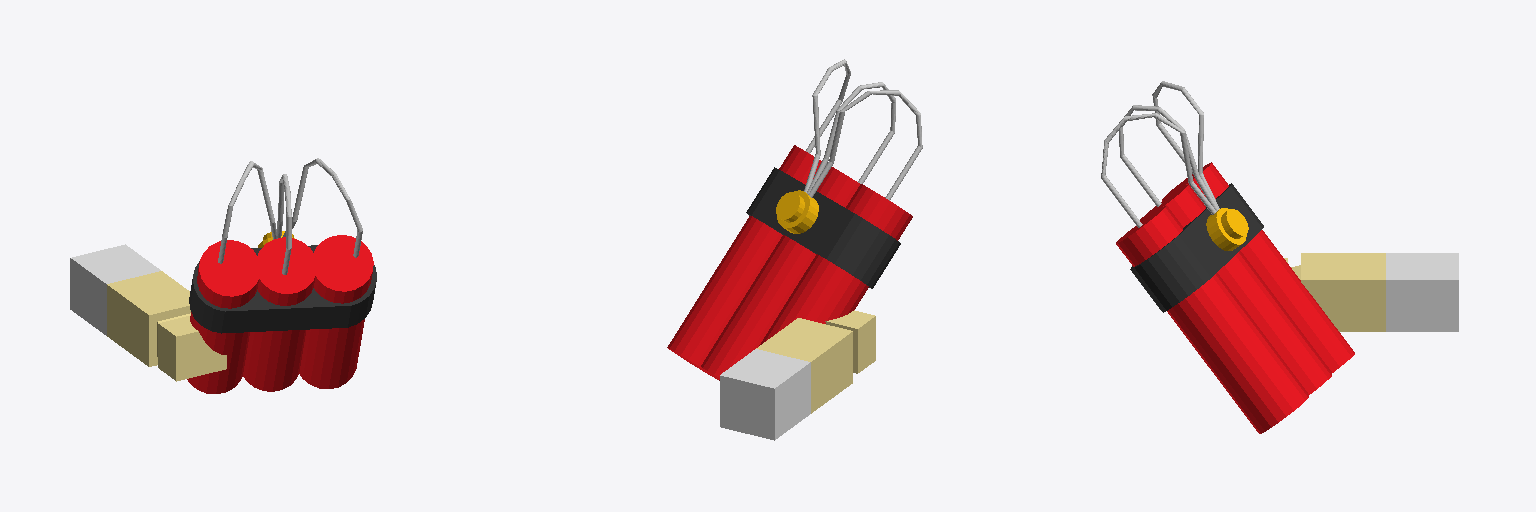
The picture shows the model from 3 angles: view 1: azimuth 30°, elevation 25°; view 2: azimuth 150°, elevation 25°; view 3: azimuth 270°, elevation 25°; orthographic projection.
Visible parts, largest first — view 1: user defined10, cube5; view 2: user defined10, cube5; view 3: user defined10, cube5.
Boxes of the visible parts, x1,y1,x2,y2 form: user defined10: [187, 158, 376, 393]; cube5: [70, 244, 226, 381]; user defined10: [667, 59, 922, 380]; cube5: [720, 310, 875, 440]; user defined10: [1101, 81, 1354, 433]; cube5: [1284, 253, 1458, 331].
Bounding box in the file's own units: 28.63 × 39.67 × 45.02.
6 materials, 5 textured.